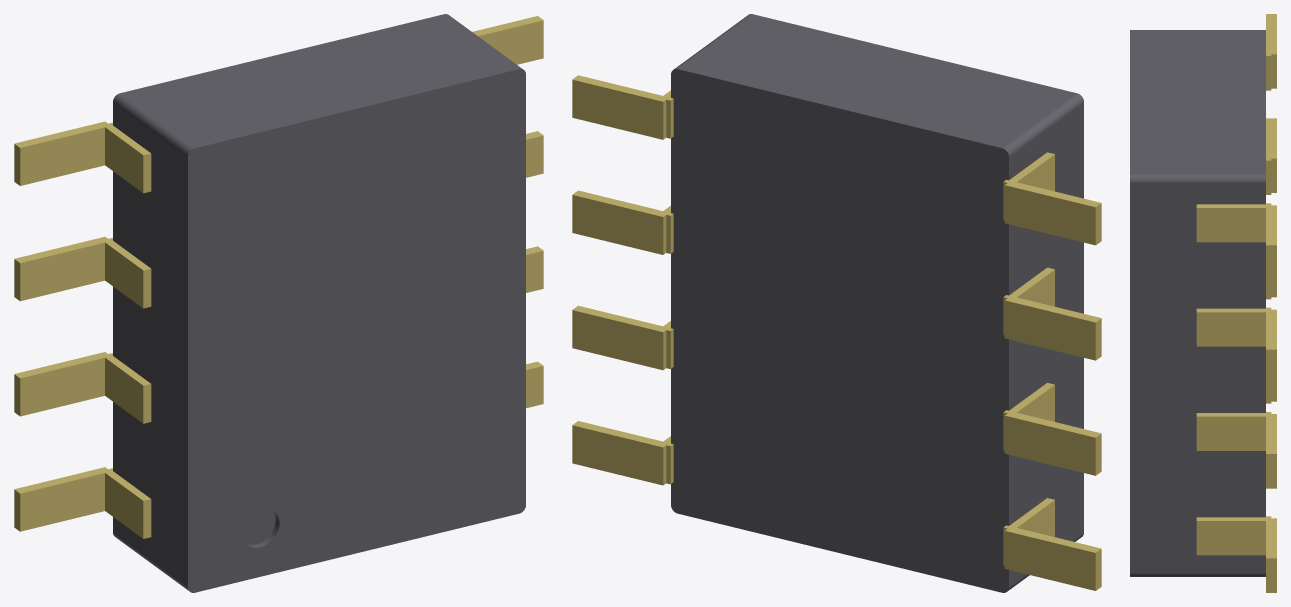
File: max6675.glb
3 renders of one model, left to right at view 1: azimuth 30°, elevation 25°; view 2: azimuth 150°, elevation 25°; view 3: azimuth 270°, elevation 25°, orthographic. The views are drawn at different scales.
Parts seen in each view (by area): view 1: extra, pins; view 2: extra, pins; view 3: extra, pins.
Part boxes in pixels (x1,y1,x2,y2): extra: (113,14,525,592); pins: (14,16,543,538); extra: (671,14,1083,592); pins: (572,75,1101,590); extra: (1130,30,1265,576); pins: (1196,14,1276,592).
Bounding box in the file's own units: 6.04 × 4.9 × 1.62.
